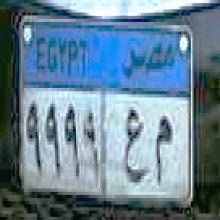9: (23, 97, 44, 179), (61, 103, 81, 184), (82, 107, 101, 188), (45, 100, 61, 180)
ain: (123, 102, 150, 192)
meem: (153, 108, 174, 191)
